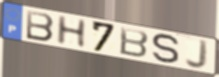7: (90, 20, 117, 54)
B: (118, 26, 150, 59), (25, 9, 56, 43)
H: (55, 14, 88, 49)
J: (184, 38, 210, 71)
S: (150, 33, 181, 65)
